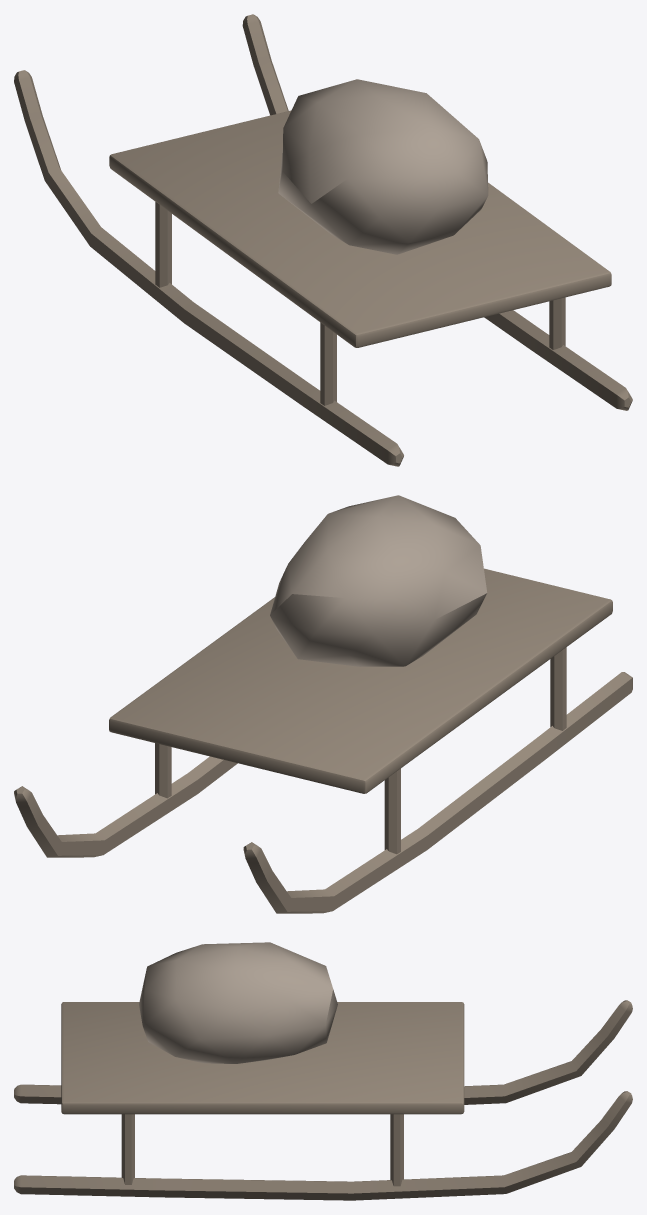
The model's file is sled.gltf.
3 views of the same model, one above another, from view 1: azimuth 30°, elevation 25°; view 2: azimuth 150°, elevation 25°; view 3: azimuth 270°, elevation 25° (orthographic). The views are drawn at different scales.
Parts seen in each view (by area): view 1: Body; view 2: Body; view 3: Body.
Part boxes in pixels (x1,y1,x2,y2): Body: (14, 14, 632, 466); Body: (14, 495, 632, 913); Body: (14, 942, 632, 1200).
Size of the model in its own units: 0.9 by 0.8506 by 2.3.
